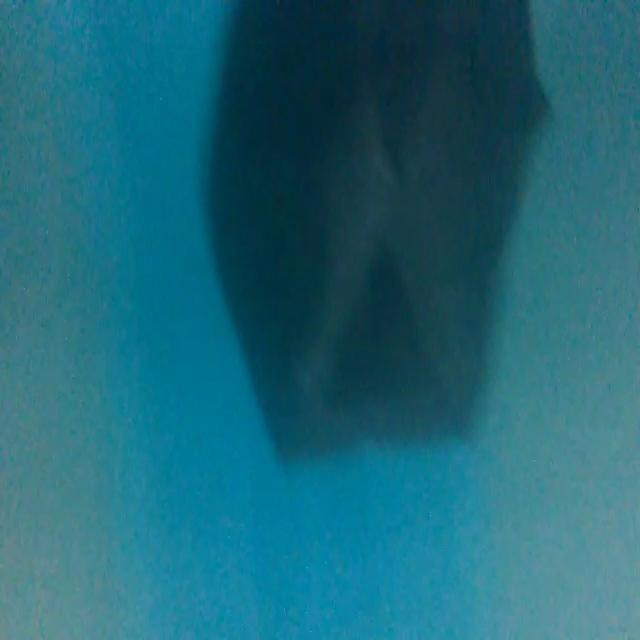plastic bags: (226, 0, 572, 461)
